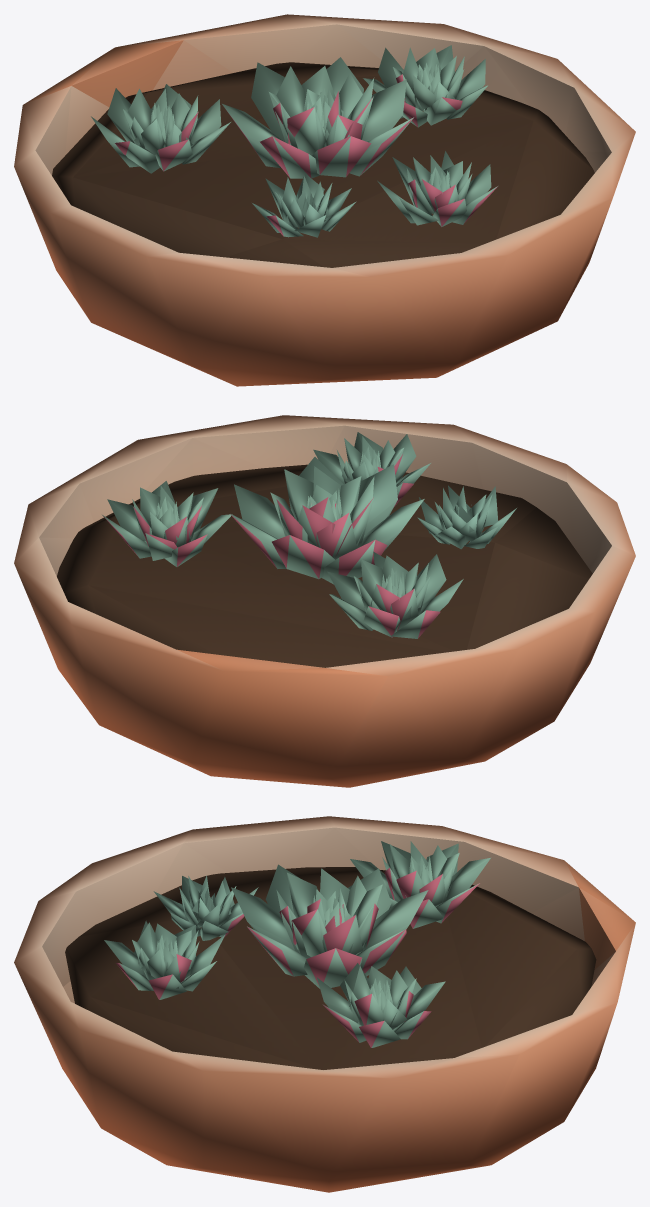
Rendered from canopy_succulent_pot_lod2.glb.
The picture shows the model from 3 angles, top to bottom: view 1: azimuth 30°, elevation 25°; view 2: azimuth 150°, elevation 25°; view 3: azimuth 270°, elevation 25°; orthographic projection.
Parts seen in each view (by area): view 1: canopy_succulent_pot.001; view 2: canopy_succulent_pot.001; view 3: canopy_succulent_pot.001.
Part boxes in pixels (x1=…): canopy_succulent_pot.001: x1=14, y1=14, x2=635, y2=386; canopy_succulent_pot.001: x1=14, y1=415, x2=635, y2=787; canopy_succulent_pot.001: x1=14, y1=816, x2=635, y2=1192.
Size of the model in its own units: 6.1 by 2.28 by 6.11.
